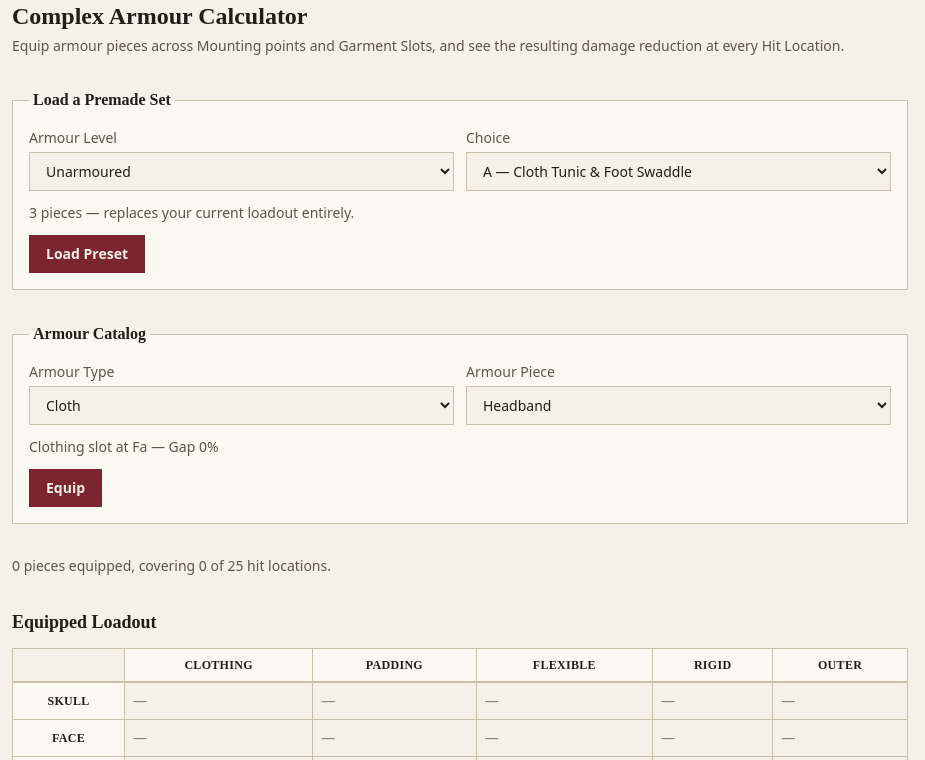
it: ComplexArmourCalculator › loads a premade set and replaces any existing loadout
This screenshot has width=925, height=760.
Select "Hood" in the dropdown labelled "Armour Piece" at (678, 406), box [466, 386, 891, 425]
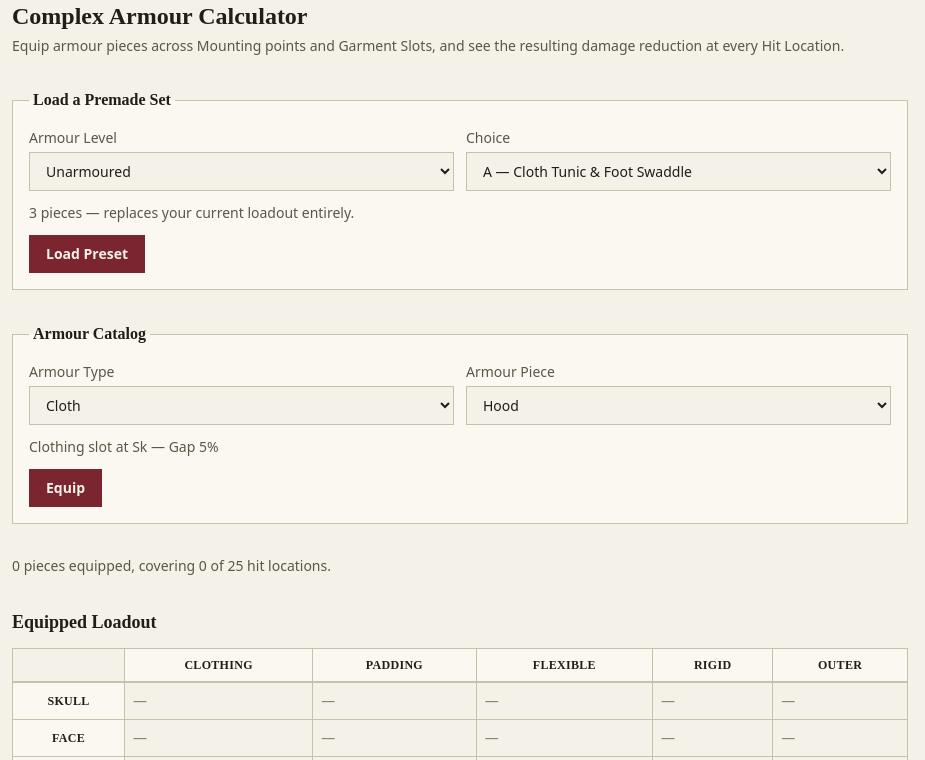
Click the button "Equip".
click(66, 488)  # box [29, 469, 102, 507]
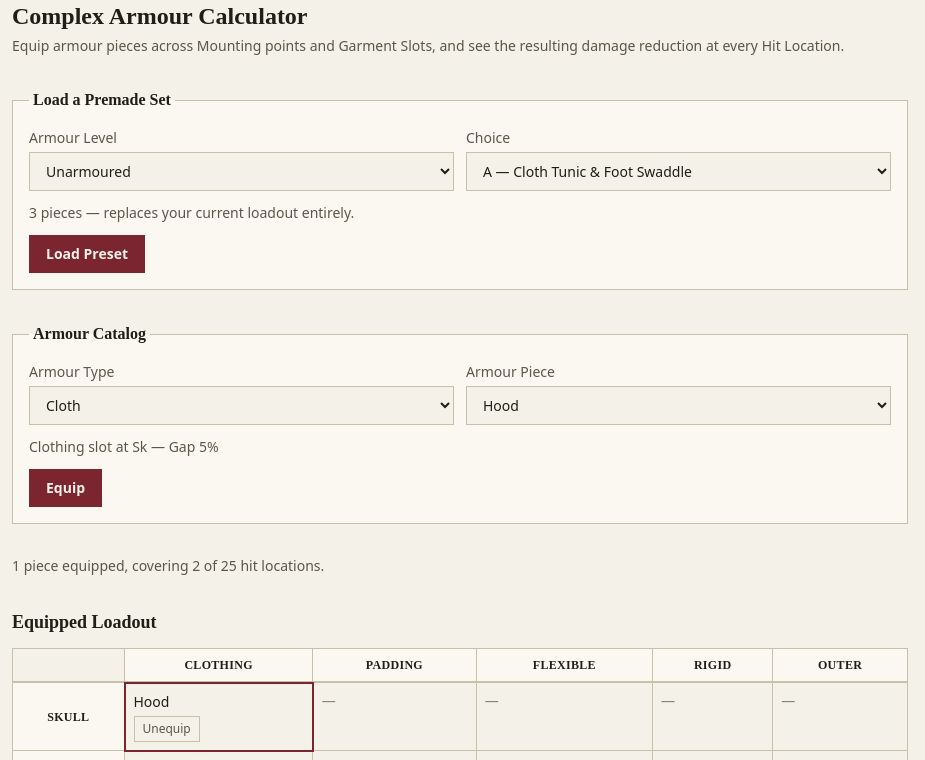
Click the button "Load Preset".
click(87, 254)  # box [29, 235, 145, 273]
(page scrolled)
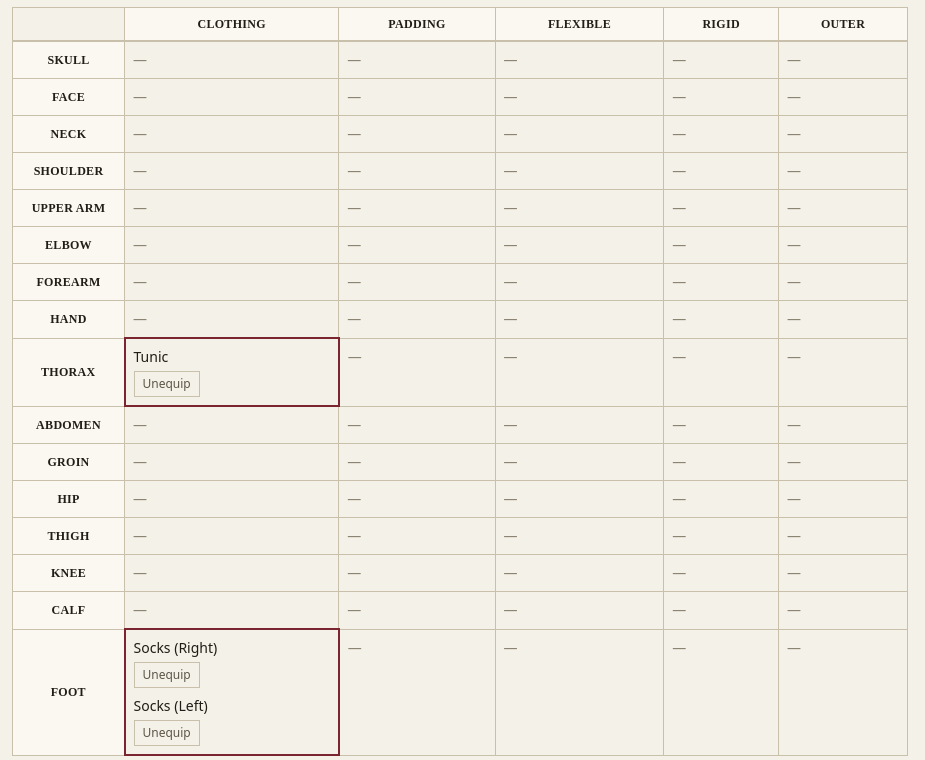
Check: the button with aria-label "Unequip Tunic" is shown, box [134, 371, 200, 397]
